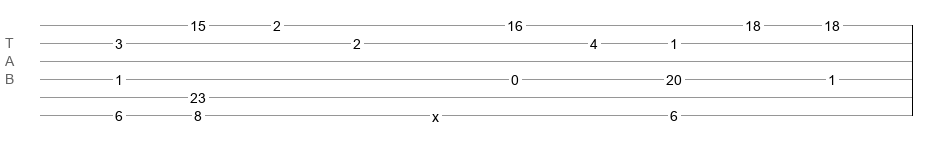0: (511, 72, 519, 82)
1: (115, 72, 123, 82), (670, 36, 678, 46), (828, 72, 836, 82)
15: (190, 18, 206, 28)
16: (507, 18, 523, 28)
18: (745, 18, 761, 28), (824, 18, 840, 28)
2: (273, 18, 281, 28), (353, 36, 361, 46)
20: (666, 72, 682, 82)
23: (190, 90, 206, 100)
3: (115, 36, 123, 46)
4: (590, 36, 598, 46)
6: (115, 108, 123, 118), (670, 108, 678, 118)
8: (194, 108, 202, 118)
x: (432, 109, 439, 117)
